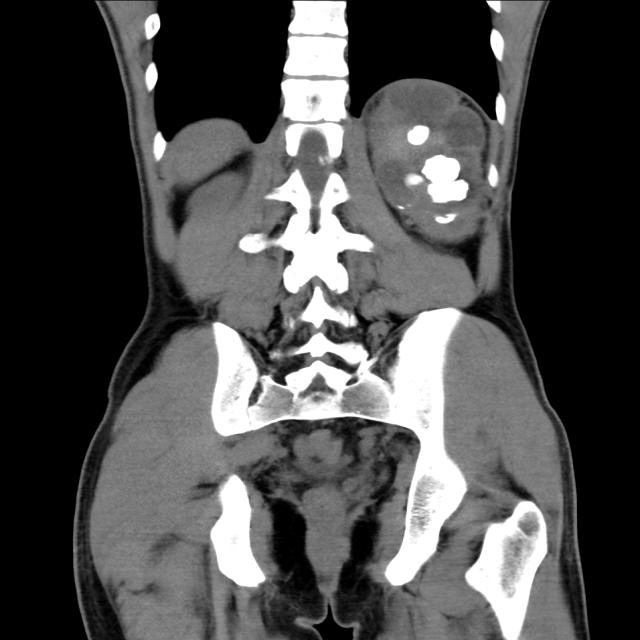kidneystone: (422, 155, 469, 202), (406, 125, 429, 144), (405, 174, 423, 185), (435, 214, 456, 223)
